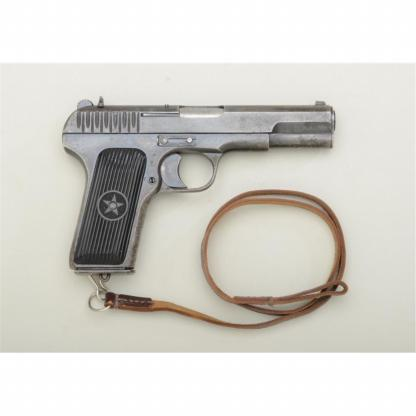Pistol: (61, 94, 336, 273)
